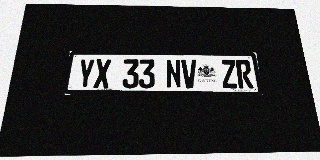3: (122, 59, 139, 88), (139, 59, 155, 88)
N: (166, 59, 182, 88)
R: (235, 60, 254, 88)
V: (181, 59, 198, 88)
X: (93, 59, 111, 88)
Y: (76, 59, 95, 88)
Z: (220, 60, 238, 88)
